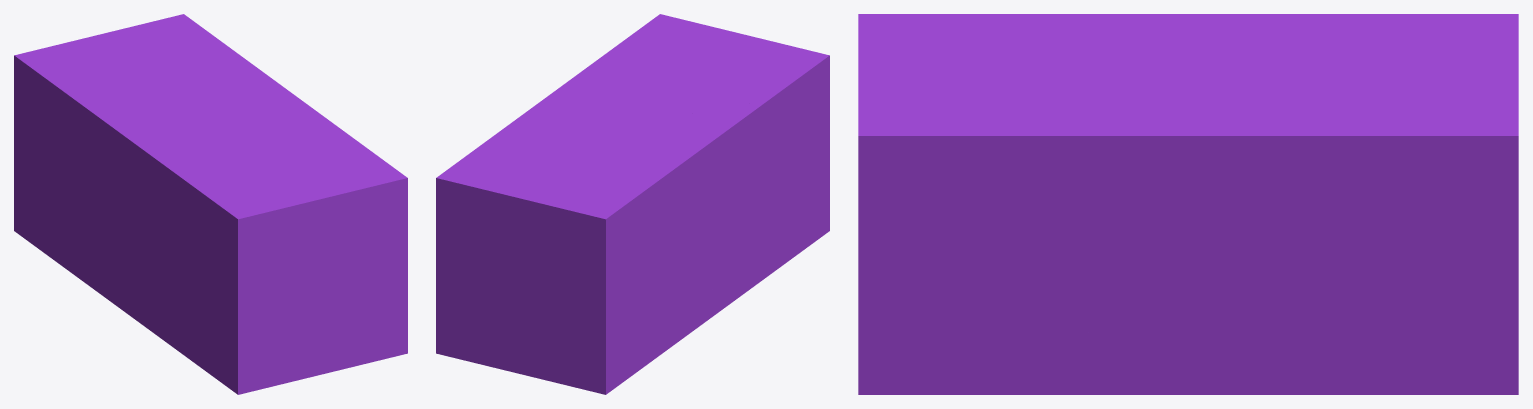
File: ExhibitGlass_1.005_chunks.fbx
3 views of the same model, side by side, from view 1: azimuth 30°, elevation 25°; view 2: azimuth 150°, elevation 25°; view 3: azimuth 270°, elevation 25° (orthographic). The views are drawn at different scales.
Parts seen in each view (by area): view 1: ExhibitGlass_1.005_0, ExhibitGlass_1.005_1, ExhibitGlass_1.005_4, ExhibitGlass_1.005_5, ExhibitGlass_1.005_3, ExhibitGlass_1.005_2; view 2: ExhibitGlass_1.005_1, ExhibitGlass_1.005_0, ExhibitGlass_1.005_4, ExhibitGlass_1.005_5, ExhibitGlass_1.005_3, ExhibitGlass_1.005_2; view 3: ExhibitGlass_1.005_1, ExhibitGlass_1.005_0, ExhibitGlass_1.005_9, ExhibitGlass_1.005_7, ExhibitGlass_1.005_5, ExhibitGlass_1.005_4, ExhibitGlass_1.005_6.
Boxes of the visible parts, x1,y1,x2,y2 form: ExhibitGlass_1.005_0: (178, 101, 407, 394); ExhibitGlass_1.005_1: (14, 14, 302, 156); ExhibitGlass_1.005_4: (119, 134, 205, 370); ExhibitGlass_1.005_5: (19, 77, 192, 204); ExhibitGlass_1.005_3: (14, 143, 106, 298); ExhibitGlass_1.005_2: (78, 183, 126, 307); ExhibitGlass_1.005_1: (436, 91, 652, 390); ExhibitGlass_1.005_0: (555, 14, 829, 254); ExhibitGlass_1.005_4: (680, 99, 796, 317); ExhibitGlass_1.005_5: (611, 116, 738, 299); ExhibitGlass_1.005_3: (589, 275, 698, 394); ExhibitGlass_1.005_2: (670, 183, 717, 326); ExhibitGlass_1.005_1: (1167, 14, 1518, 394); ExhibitGlass_1.005_0: (858, 14, 1185, 394); ExhibitGlass_1.005_9: (982, 281, 1262, 394); ExhibitGlass_1.005_7: (1154, 332, 1418, 394); ExhibitGlass_1.005_5: (1126, 14, 1431, 61); ExhibitGlass_1.005_4: (1037, 14, 1151, 50); ExhibitGlass_1.005_6: (1262, 322, 1373, 373).
Size of the model in its own units: 270 by 267 by 618.
